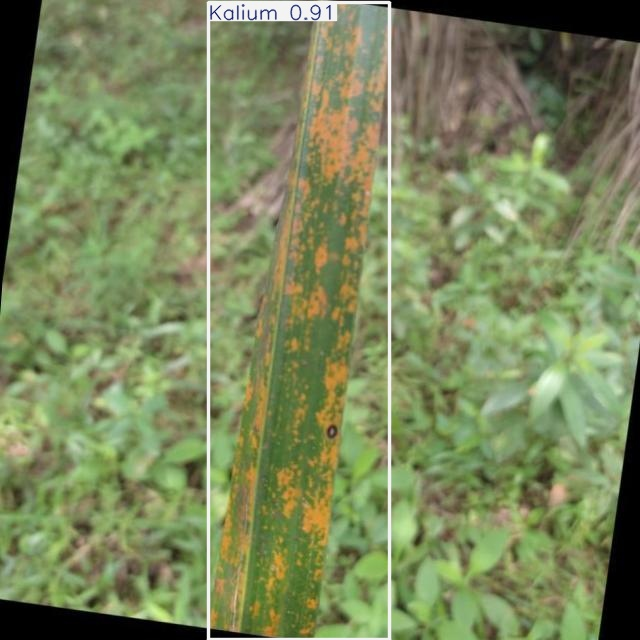Kalium: (209, 2, 390, 640)
